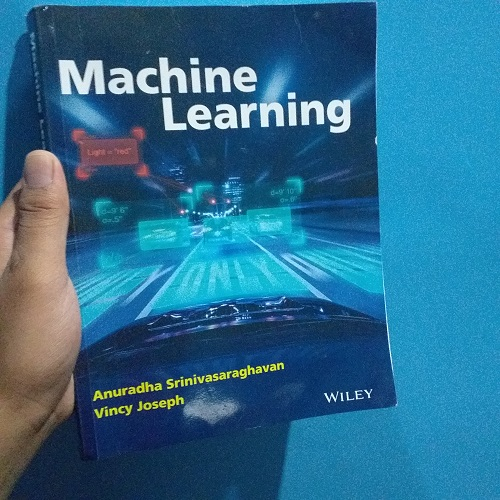book: (23, 2, 443, 475)
